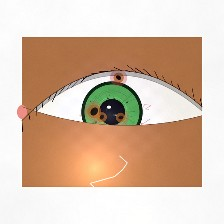foreign_body_visible: (105, 67, 132, 88)
